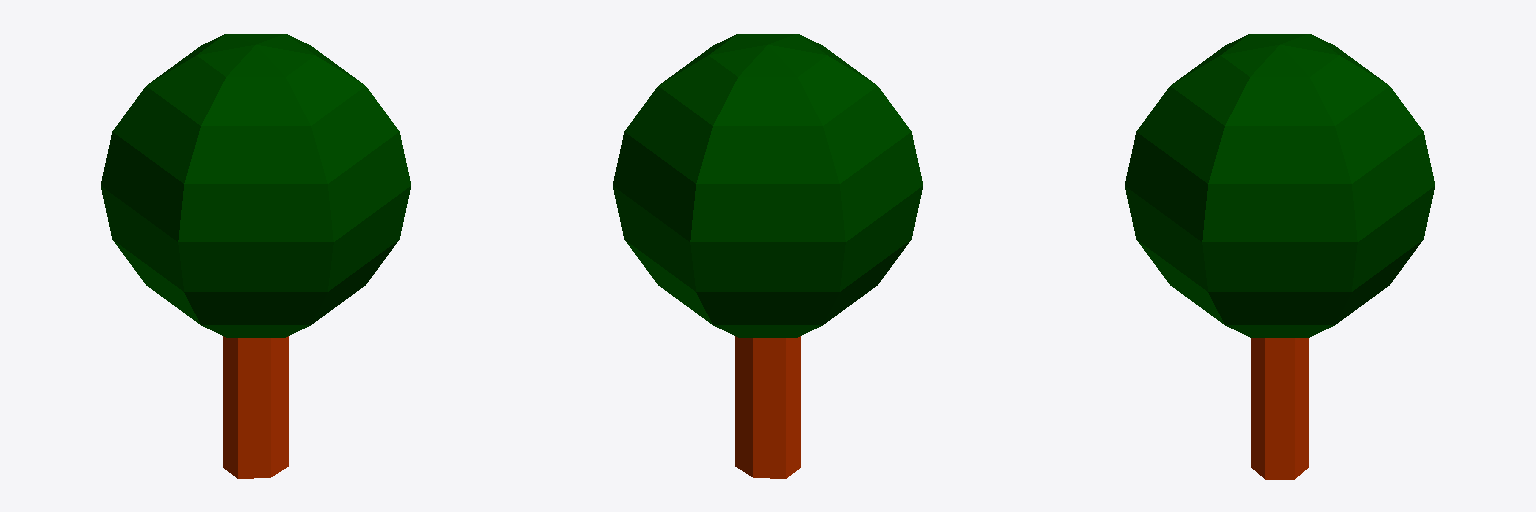
Rendered from tree_first.obj.
3 views of the same model, side by side, from view 1: azimuth 30°, elevation 25°; view 2: azimuth 150°, elevation 25°; view 3: azimuth 270°, elevation 25° (orthographic).
Visible parts, largest first — view 1: Sphere_Sphere.002; view 2: Sphere_Sphere.002; view 3: Sphere_Sphere.002.
Part boxes in pixels (left/top/right/bottom): Sphere_Sphere.002: left=101, top=34, right=410, bottom=478; Sphere_Sphere.002: left=613, top=34, right=922, bottom=478; Sphere_Sphere.002: left=1125, top=34, right=1434, bottom=479.
Size of the model in its own units: 6.93 by 12 by 8.